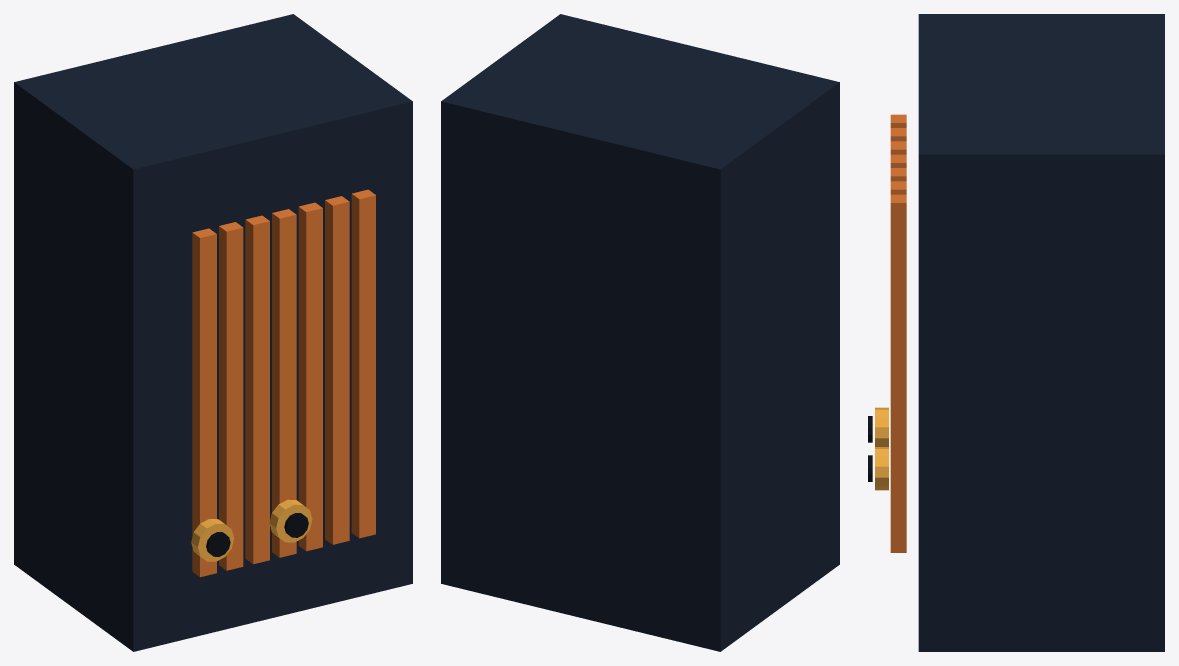
The model's file is 66_L90_ProtectedPropulsionDCBus.fbx.
3 renders of one model, left to right at view 1: azimuth 30°, elevation 25°; view 2: azimuth 150°, elevation 25°; view 3: azimuth 270°, elevation 25°, orthographic. The views are drawn at different scales.
Parts seen in each view (by area): view 1: L90_ProtectedPropulsionDCBus, L90_ProtectedPropulsionDCBus_Part_0004, L90_ProtectedPropulsionDCBus_Part_0002; view 2: L90_ProtectedPropulsionDCBus; view 3: L90_ProtectedPropulsionDCBus, L90_ProtectedPropulsionDCBus_Part_0004, L90_ProtectedPropulsionDCBus_Part_0002.
Part boxes in pixels (x1,y1,x2,y2): L90_ProtectedPropulsionDCBus: [14, 14, 412, 651]; L90_ProtectedPropulsionDCBus_Part_0004: [269, 499, 312, 542]; L90_ProtectedPropulsionDCBus_Part_0002: [191, 519, 234, 561]; L90_ProtectedPropulsionDCBus: [441, 14, 839, 651]; L90_ProtectedPropulsionDCBus: [890, 14, 1164, 651]; L90_ProtectedPropulsionDCBus_Part_0004: [875, 447, 888, 490]; L90_ProtectedPropulsionDCBus_Part_0002: [875, 407, 888, 446].
Bounding box in the file's own units: 100 × 165 × 89.2.
